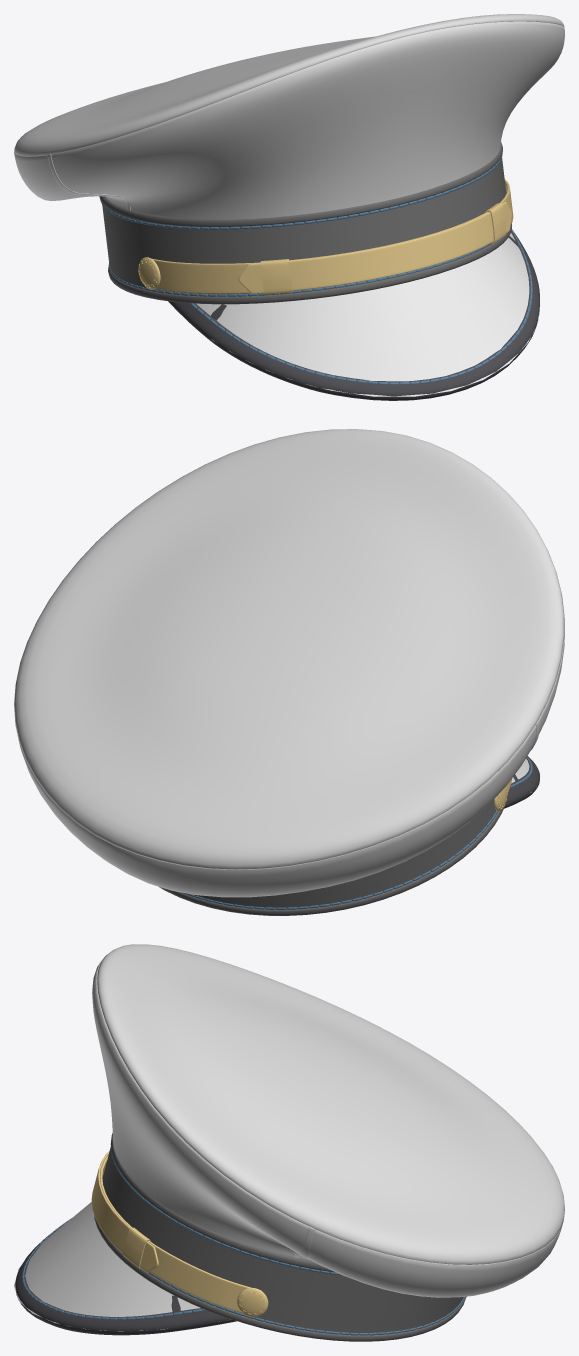
The model's file is Sailor Hat Model.fbx.
3 renders of one model, top to bottom at view 1: azimuth 30°, elevation 25°; view 2: azimuth 150°, elevation 25°; view 3: azimuth 270°, elevation 25°, orthographic. The views are drawn at different scales.
Visible parts, largest first — view 1: HAT TOP, VISOR SHRINK, BAND.001, VISOR TAPE.001, VISOR BAND FRONT, VISOR BAND, VISOR BAND COVER, STRING VISOR.001, STRING BAND-2.001, STRING BAND-1.001, RIVET.001; view 2: HAT TOP, BAND.001, STRING BAND-1.001, VISOR TAPE.001; view 3: HAT TOP, BAND.001, VISOR SHRINK, VISOR TAPE.001, VISOR BAND, VISOR BAND FRONT, STRING BAND-1.001, RIVET.001, STRING BAND-2.001, STRING VISOR.001, VISOR BAND COVER.
Part boxes in pixels (left/top/right/bottom): HAT TOP: left=14, top=14, right=564, bottom=219; VISOR SHRINK: left=196, top=233, right=540, bottom=396; BAND.001: left=99, top=142, right=511, bottom=304; VISOR TAPE.001: left=168, top=229, right=539, bottom=400; VISOR BAND FRONT: left=238, top=201, right=512, bottom=293; VISOR BAND: left=152, top=179, right=513, bottom=293; VISOR BAND COVER: left=260, top=203, right=506, bottom=294; STRING VISOR.001: left=190, top=229, right=532, bottom=384; STRING BAND-2.001: left=101, top=156, right=502, bottom=229; STRING BAND-1.001: left=108, top=243, right=491, bottom=296; RIVET.001: left=138, top=257, right=160, bottom=289; HAT TOP: left=14, top=429, right=564, bottom=897; BAND.001: left=159, top=785, right=510, bottom=915; STRING BAND-1.001: left=181, top=811, right=498, bottom=909; VISOR TAPE.001: left=504, top=756, right=539, bottom=808; HAT TOP: left=92, top=944, right=564, bottom=1297; BAND.001: left=94, top=1133, right=466, bottom=1341; VISOR SHRINK: left=14, top=1202, right=230, bottom=1331; VISOR TAPE.001: left=15, top=1222, right=236, bottom=1335; VISOR BAND: left=100, top=1154, right=261, bottom=1312; VISOR BAND FRONT: left=91, top=1151, right=158, bottom=1272; STRING BAND-1.001: left=148, top=1272, right=464, bottom=1335; RIVET.001: left=237, top=1288, right=268, bottom=1317; STRING BAND-2.001: left=111, top=1148, right=342, bottom=1275; STRING VISOR.001: left=22, top=1218, right=206, bottom=1319; VISOR BAND COVER: left=123, top=1227, right=150, bottom=1268.
Bounding box in the file's own units: 29.96 × 19.44 × 30.95.
